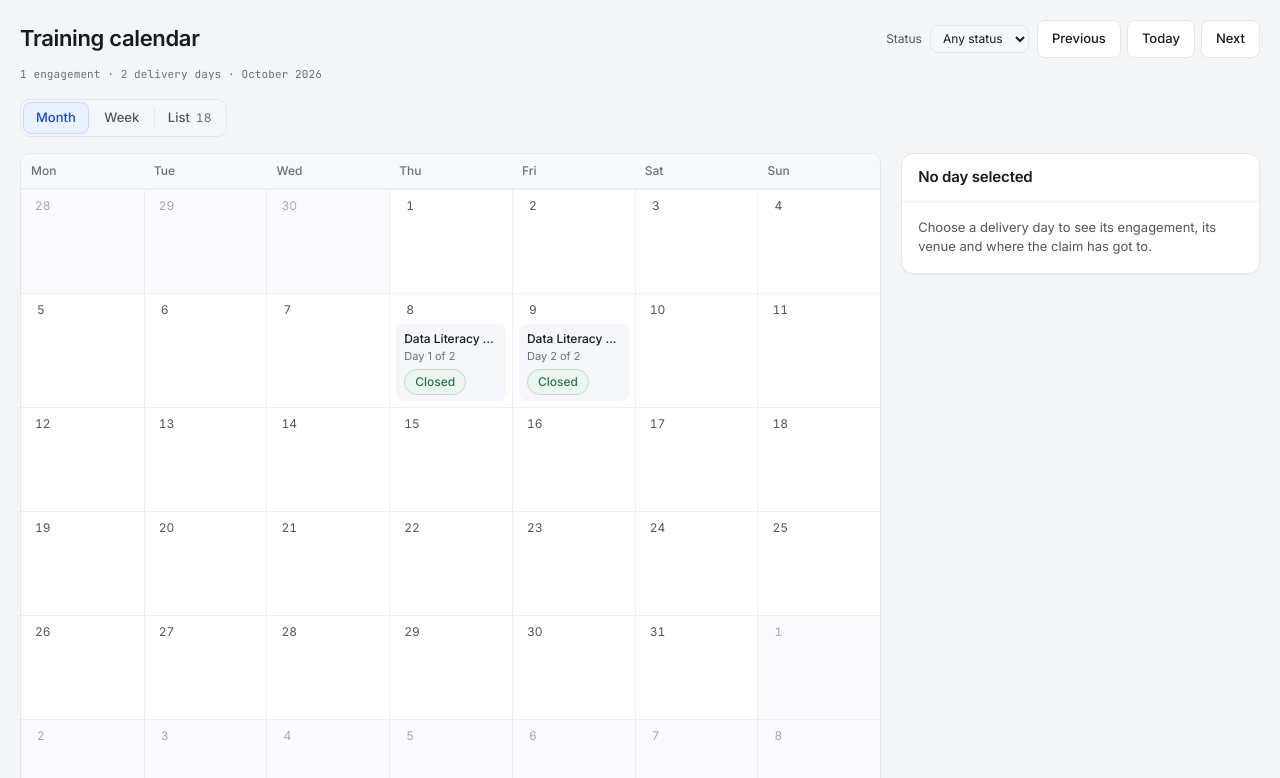
Scenario: M-none · the training calendar › narrows the schedule by status and says so in the count line
Click the tab "List 18" at (190, 118), box [155,102,224,134]
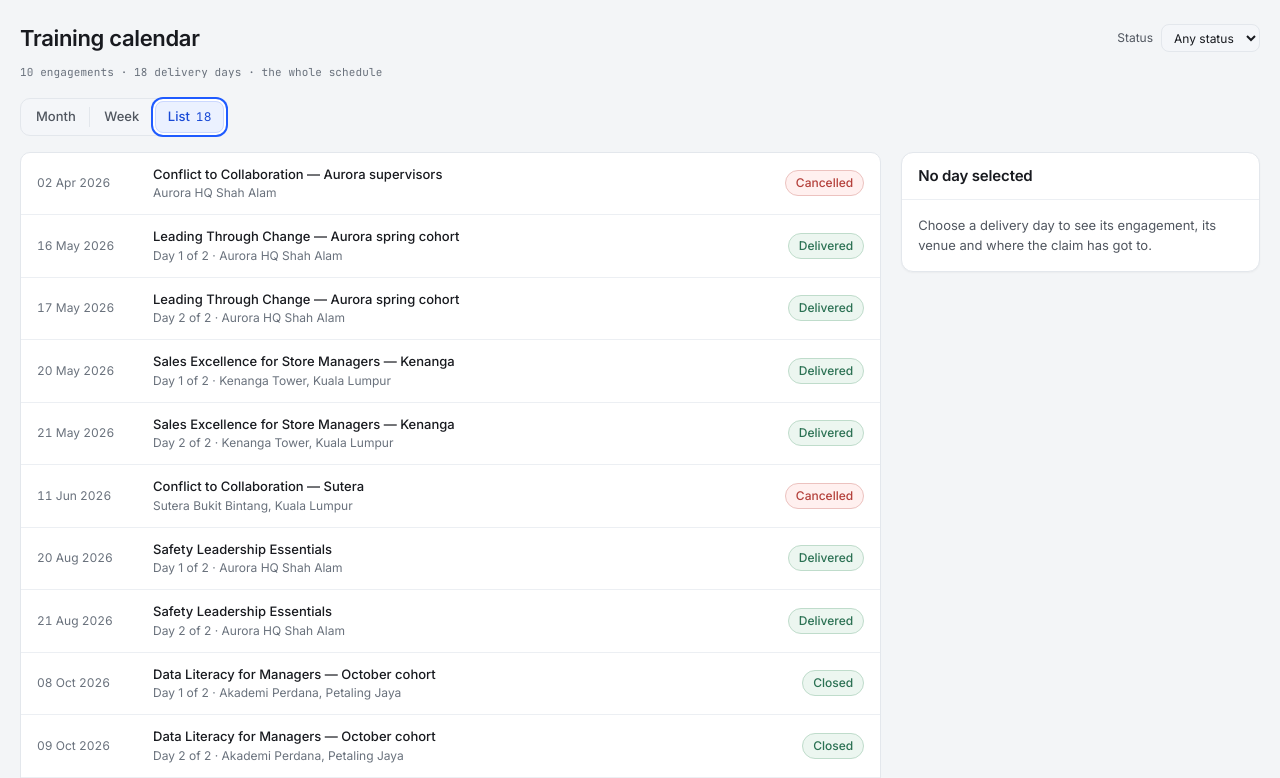
Select "Cancelled" in the dropdown labelled "Status" at (1210, 38), box [1161,24,1260,52]
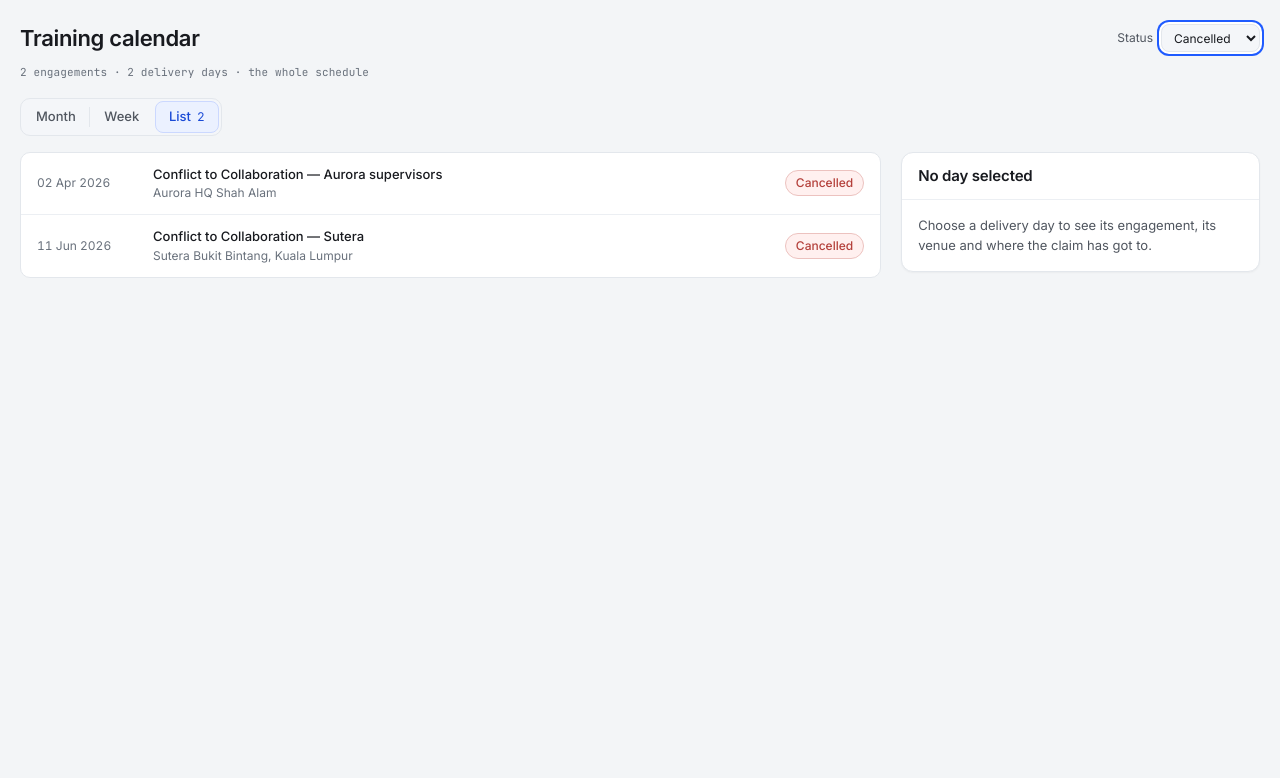
Result: the text "Conflict to Collaboration — Sutera" is shown at [153,228,364,244]
Result: the button "Leading Through Change" is gone
